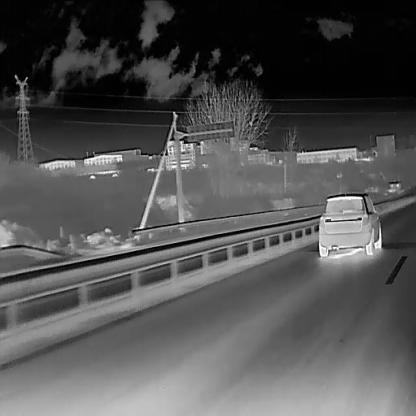car: (318, 192, 381, 257)
